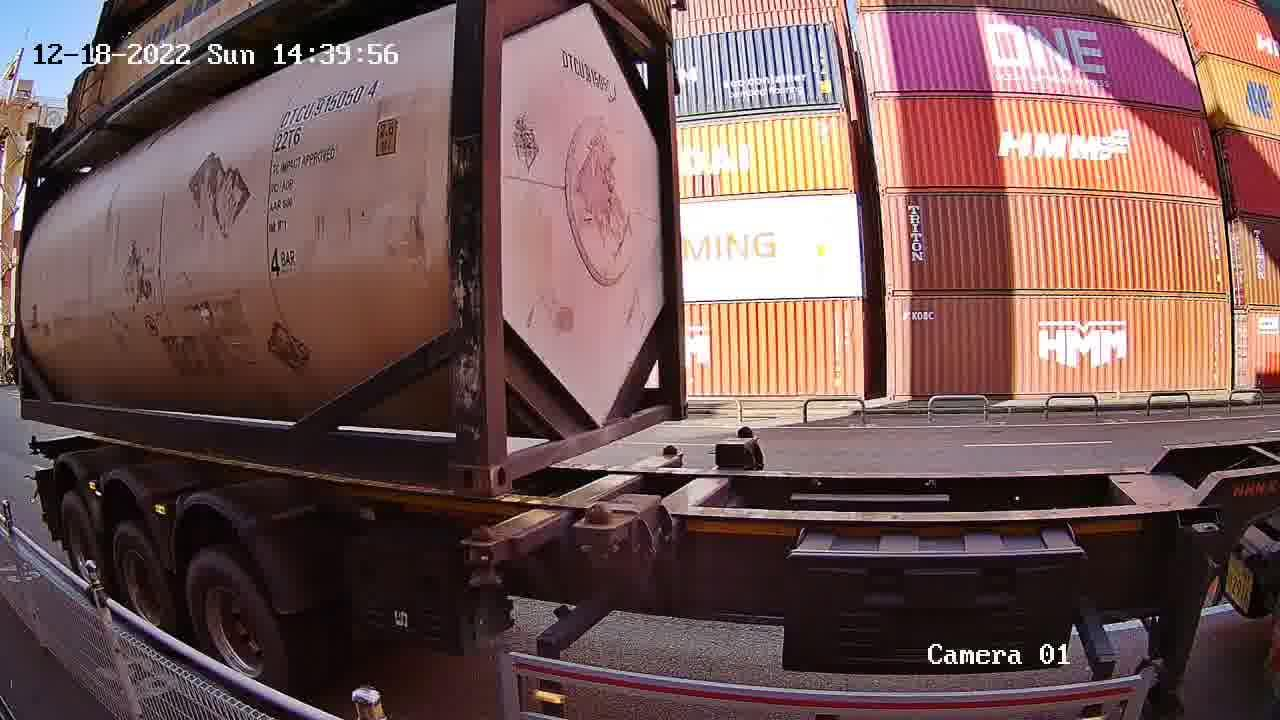Chassis: (463, 454, 681, 556)
Cone: (462, 529, 505, 591), (660, 443, 679, 464)
Hole_L: (490, 413, 543, 497)
Hole_R: (416, 410, 490, 497), (648, 377, 690, 425)
Tire: (186, 560, 284, 681), (112, 526, 175, 627), (59, 495, 97, 560)
